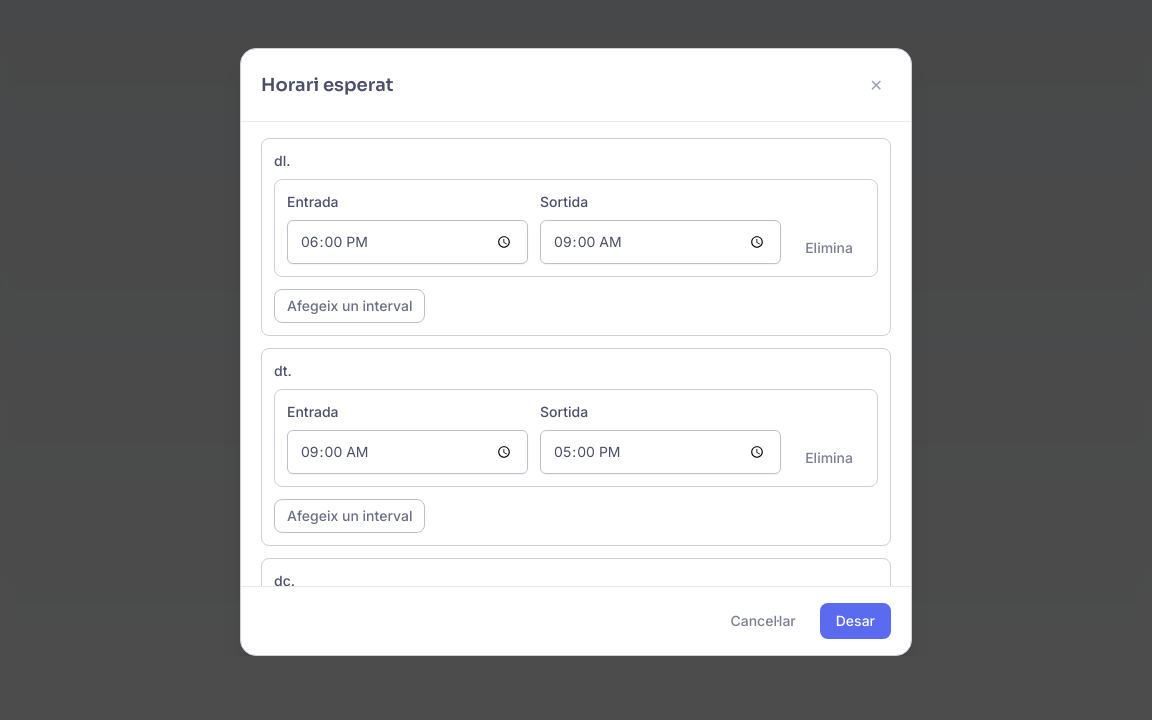
Scenario: ExpectedTimetableModal › blocks saving an invalid draft and stays open
Click the button "Desar" at (855, 621), box [820,603,891,639]
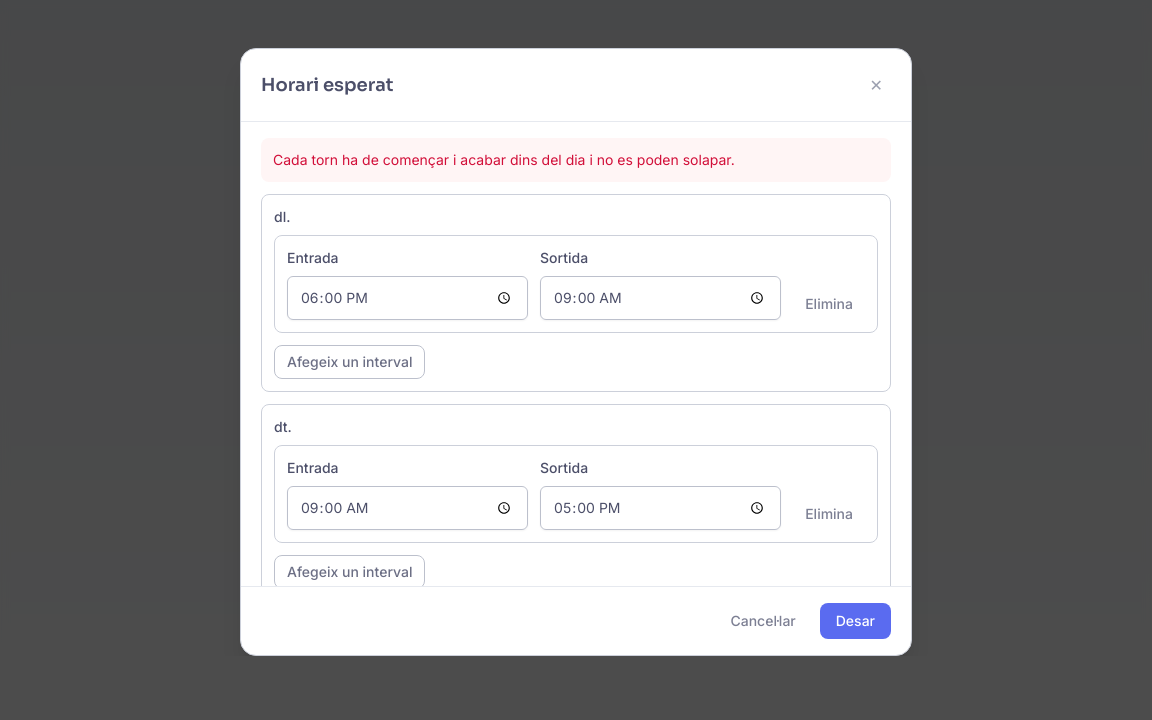
expect the text "ha de començar i acabar dins del dia" is shown: met, box [273,151,735,168]
